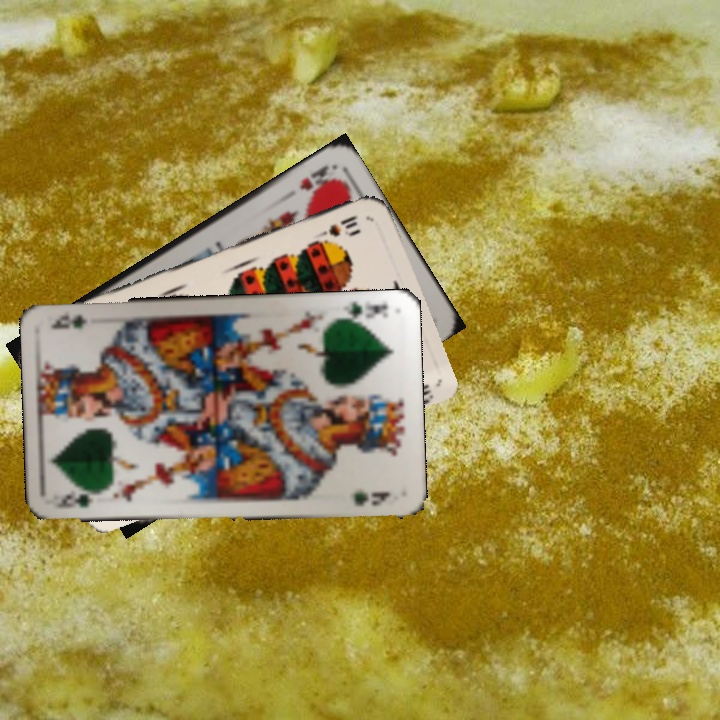GK: (335, 298, 390, 325), (51, 493, 94, 510)
HK: (295, 161, 339, 194)
S10: (310, 211, 361, 243)
